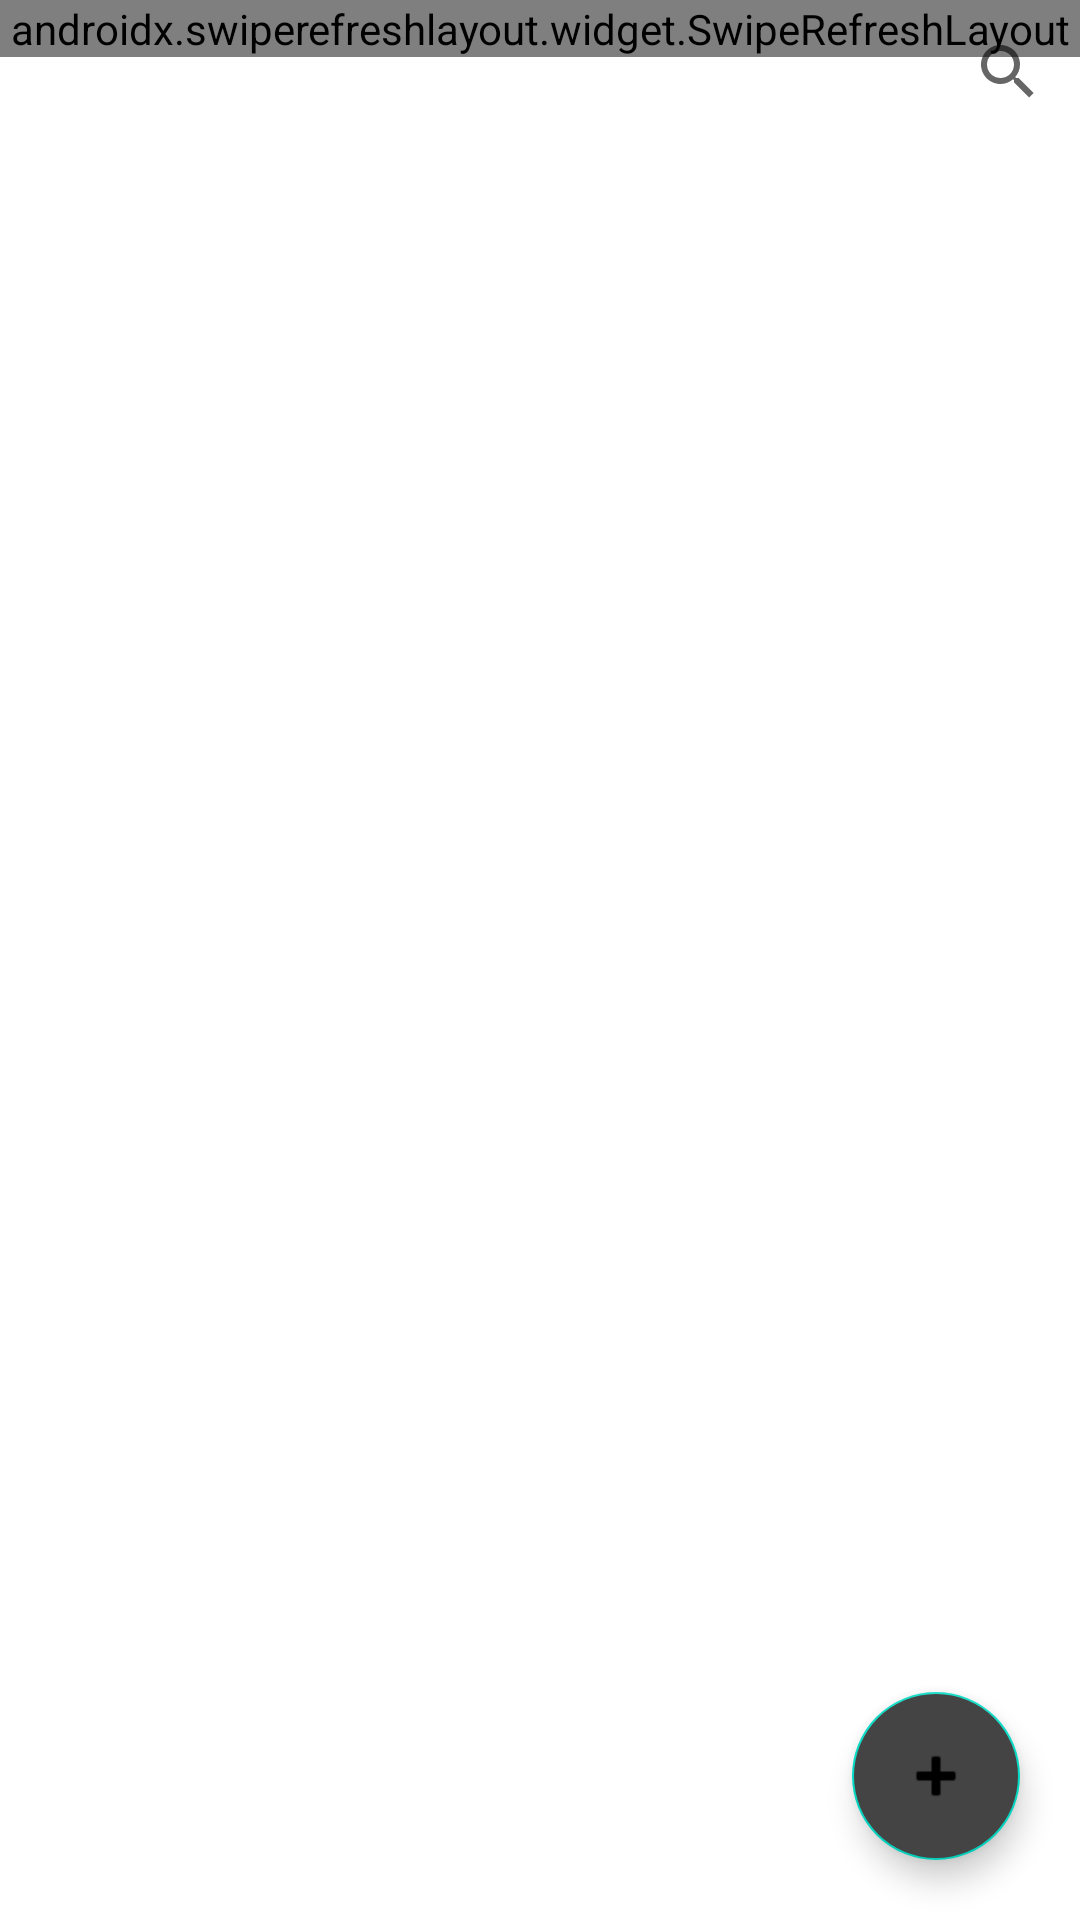

Icon click points for this 1080 x 1920 phone screenshot, format (x,y):
add: (936,1776)
